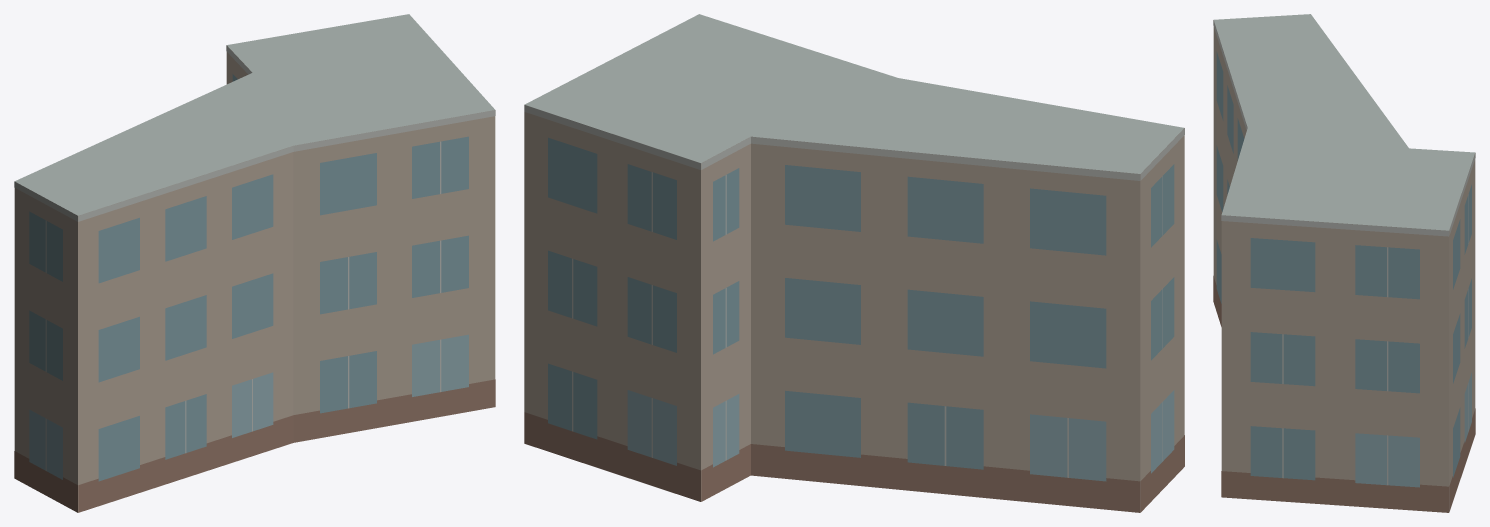
The model's file is survey-upis-32489597.glb.
The picture shows the model from 3 angles, left to right: view 1: azimuth 30°, elevation 25°; view 2: azimuth 150°, elevation 25°; view 3: azimuth 270°, elevation 25°; orthographic projection. The views are drawn at different scales.
Visible parts, largest first — view 1: survey-upis-32489597.tmp; view 2: survey-upis-32489597.tmp; view 3: survey-upis-32489597.tmp.
Part boxes in pixels (<box>): survey-upis-32489597.tmp: <box>14,14,495,512</box>; survey-upis-32489597.tmp: <box>524,14,1184,512</box>; survey-upis-32489597.tmp: <box>1213,14,1475,512</box>.
Bounding box in the file's own units: 19.36 × 11.75 × 9.89.
